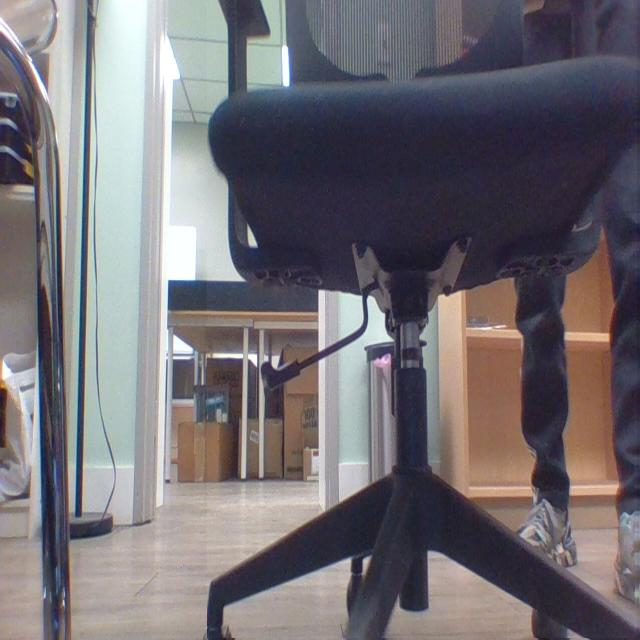black-chair: (208, 0, 640, 639)
